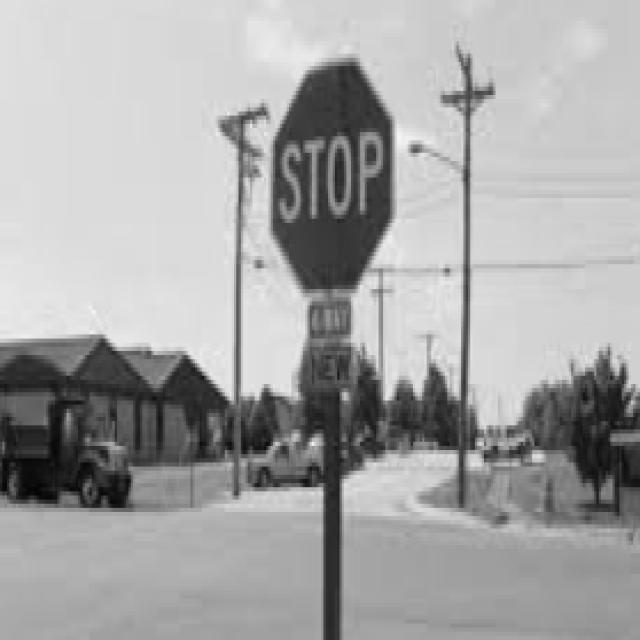Stop-signs: (271, 54, 397, 295)
